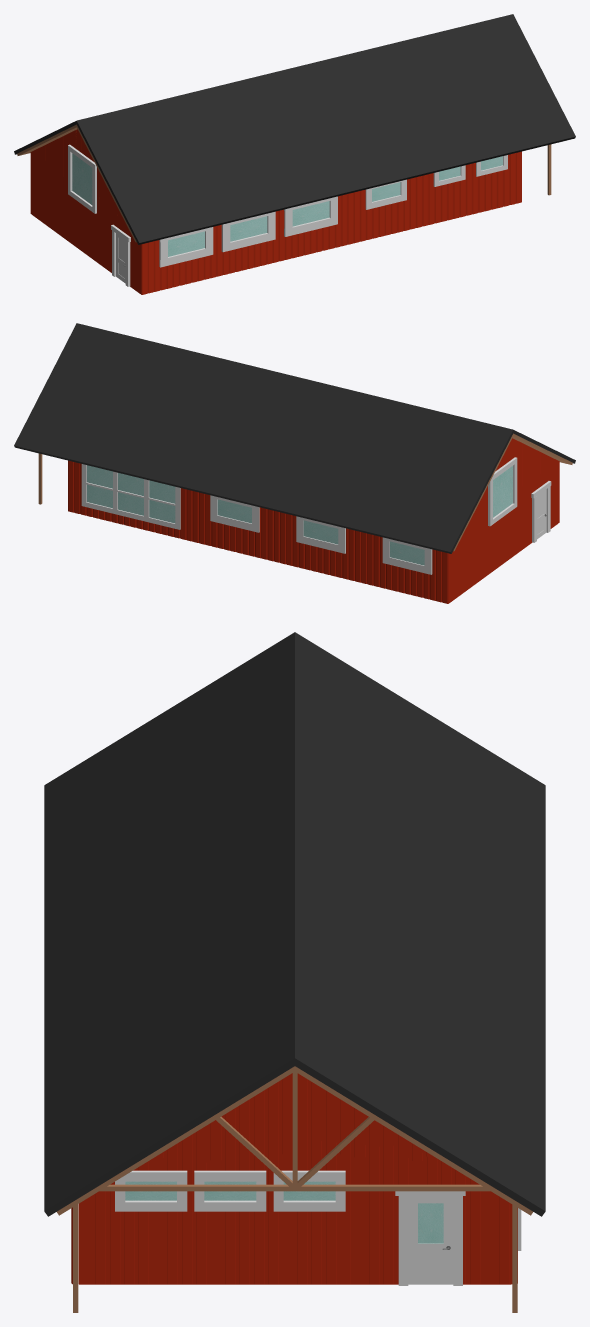
The model's file is Cabin.fbx.
3 renders of one model, top to bottom at view 1: azimuth 30°, elevation 25°; view 2: azimuth 150°, elevation 25°; view 3: azimuth 270°, elevation 25°, orthographic. The views are drawn at different scales.
Visible parts, largest first — view 1: Roof, Walls, Inside, Frame.007, Frame.008, Frame.006, WoodenBeams, GlassSection.016, GlassSection.007, GlassSection.008, GlassSection.009, BorderTop.001 (+3 smaller); view 2: Roof, Walls, Inside, GlassSection.015, GlassSection.013, GlassSection.014, Frame.009, WoodenBeams, Frame.010, Frame.011, GlassSection.016, GlassSection.011 (+5 smaller); view 3: Roof, Walls, Inside, WoodenBeams, TopSection, BorderTop, Frame.002, Frame.001, Frame, GlassSection.
Part boxes in pixels (x1,y1,x2,y2): Roof: (14, 14, 575, 244); Walls: (30, 129, 521, 294); Inside: (32, 130, 139, 293); Frame.007: (221, 211, 275, 252); Frame.008: (159, 227, 213, 267); Frame.006: (284, 196, 337, 236); WoodenBeams: (17, 124, 551, 242); GlassSection.016: (72, 153, 92, 204); GlassSection.007: (292, 201, 329, 226); GlassSection.008: (230, 216, 267, 241); GlassSection.009: (168, 231, 204, 256); BorderTop.001: (111, 224, 130, 286); Roof: (14, 323, 575, 553); Walls: (68, 438, 559, 603); Inside: (450, 439, 557, 602); GlassSection.015: (149, 480, 175, 523); GlassSection.013: (118, 473, 143, 515); GlassSection.014: (87, 465, 112, 508); Frame.009: (382, 537, 432, 574); WoodenBeams: (38, 433, 572, 551); Frame.010: (296, 516, 345, 553); Frame.011: (210, 495, 259, 532); GlassSection.016: (493, 466, 512, 517); GlassSection.011: (303, 520, 338, 544); Roof: (44, 632, 545, 1216); Walls: (71, 1073, 517, 1284); Inside: (79, 1079, 511, 1284); WoodenBeams: (57, 1066, 532, 1312); TopSection: (408, 1196, 453, 1284); BorderTop: (395, 1191, 465, 1285); Frame.002: (194, 1170, 266, 1211); Frame.001: (115, 1170, 187, 1211); Frame: (273, 1170, 345, 1211); GlassSection: (418, 1203, 443, 1243).
Bounding box in the file's own units: 2800 × 834 × 1393.
Materials: 6 (1 with a texture image).
